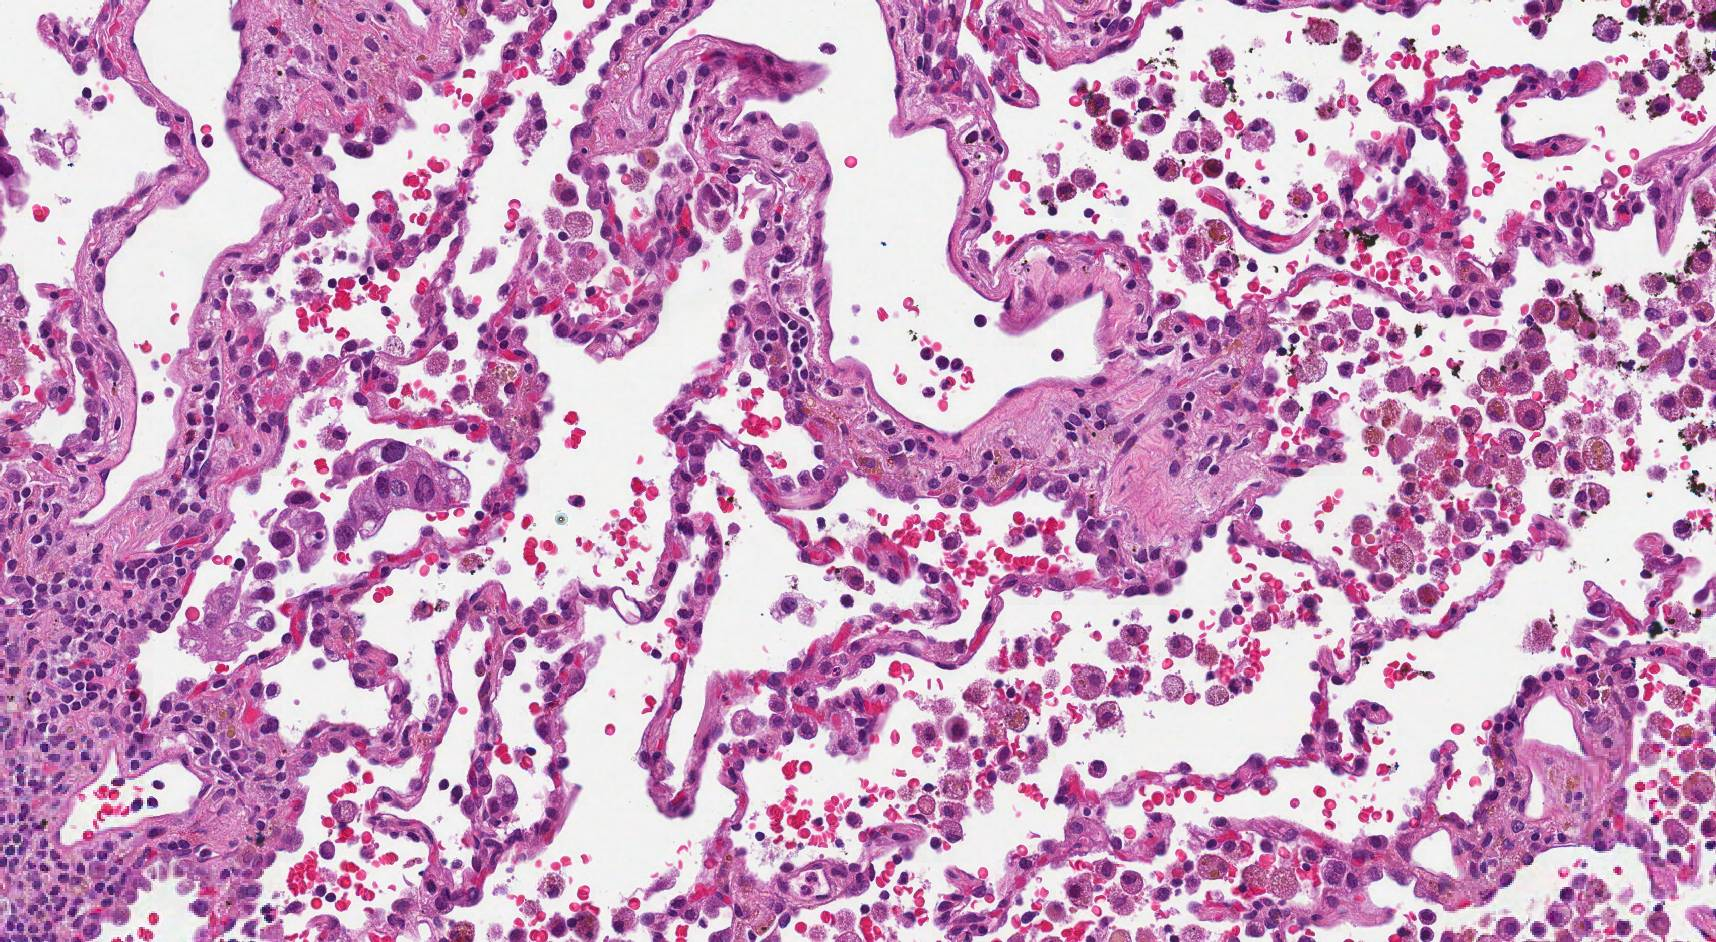stas: (333, 440, 472, 551), (184, 579, 276, 665), (265, 492, 328, 573)
